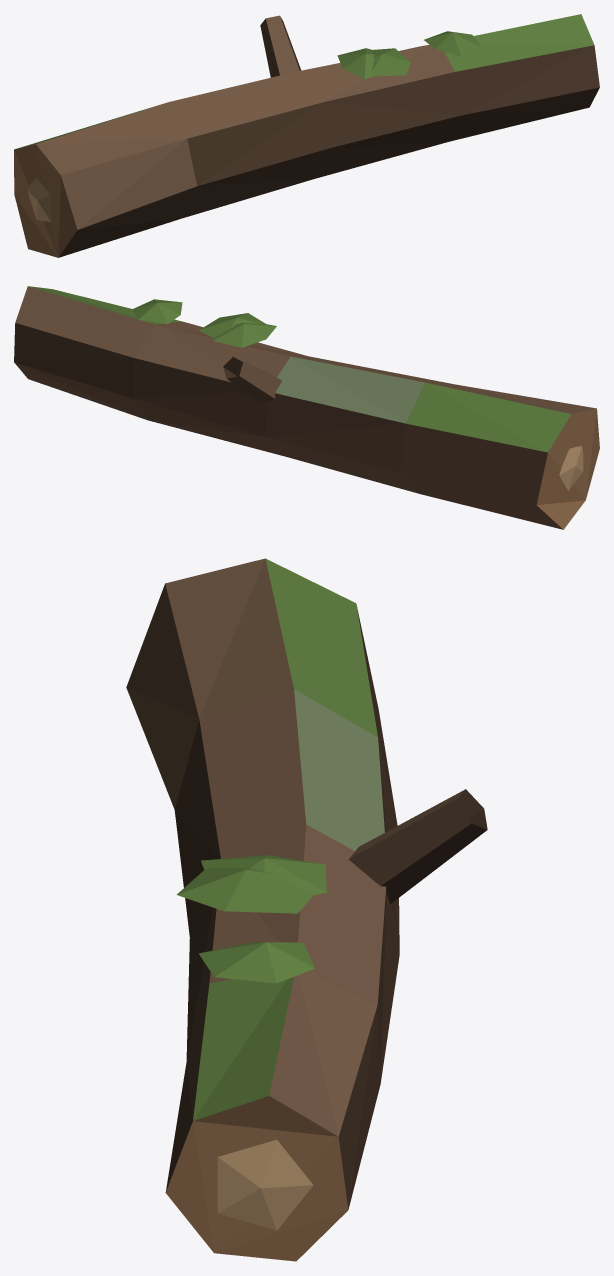
File: log_fallen.fbx
3 renders of one model, top to bottom at view 1: azimuth 30°, elevation 25°; view 2: azimuth 150°, elevation 25°; view 3: azimuth 270°, elevation 25°, orthographic. The views are drawn at different scales.
Visible parts, largest first — view 1: log_fallen; view 2: log_fallen; view 3: log_fallen.
Boxes of the visible parts, box(x1,y1,x2,y2) form: log_fallen: box(14, 14, 599, 257); log_fallen: box(14, 286, 599, 529); log_fallen: box(126, 558, 487, 1261).
Bounding box in the file's own units: 3.56 × 0.8239 × 1.02.
